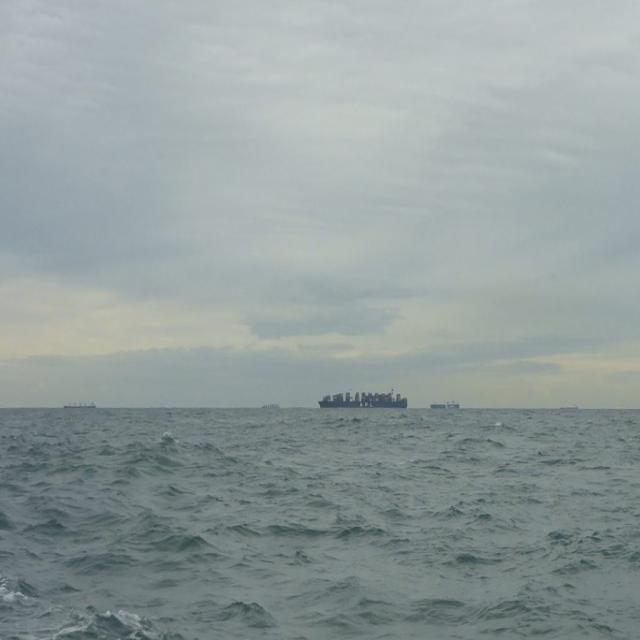cargoship: (318, 385, 408, 411)
